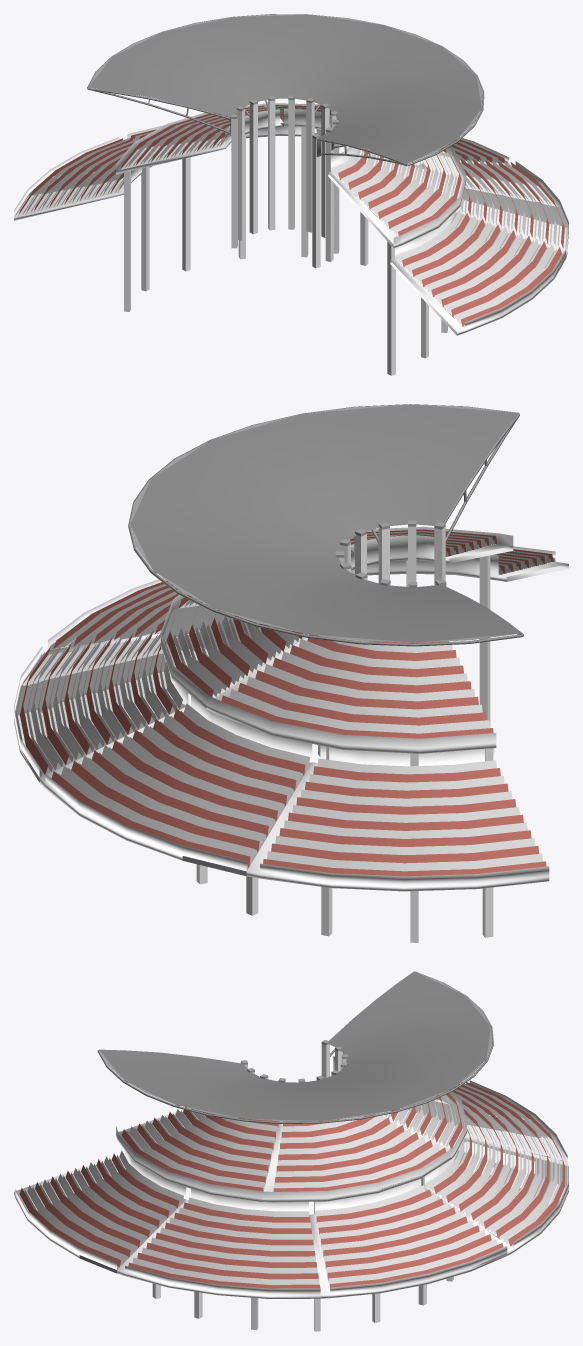
File: grandstand_round.dae
The picture shows the model from 3 angles, top to bottom: view 1: azimuth 30°, elevation 25°; view 2: azimuth 150°, elevation 25°; view 3: azimuth 270°, elevation 25°; orthographic projection. The views are drawn at different scales.
Visible parts, largest first — view 1: grandstand_round_a1000, grandstand_round_a500, grandstand_round_a250; view 2: grandstand_round_a1000, grandstand_round_a500, grandstand_round_a250; view 3: grandstand_round_a1000, grandstand_round_a500, grandstand_round_a250.
Boxes of the visible parts, x1,y1,x2,y2 form: grandstand_round_a1000: (14,14,568,375); grandstand_round_a500: (88,14,481,163); grandstand_round_a250: (29,88,568,318); grandstand_round_a1000: (14,404,568,942); grandstand_round_a500: (130,404,521,642); grandstand_round_a250: (15,417,546,876); grandstand_round_a1000: (14,971,568,1331); grandstand_round_a500: (99,971,490,1120); grandstand_round_a250: (34,1035,568,1280).
Bounding box in the file's own units: 63.37 × 71.37 × 31.93.
